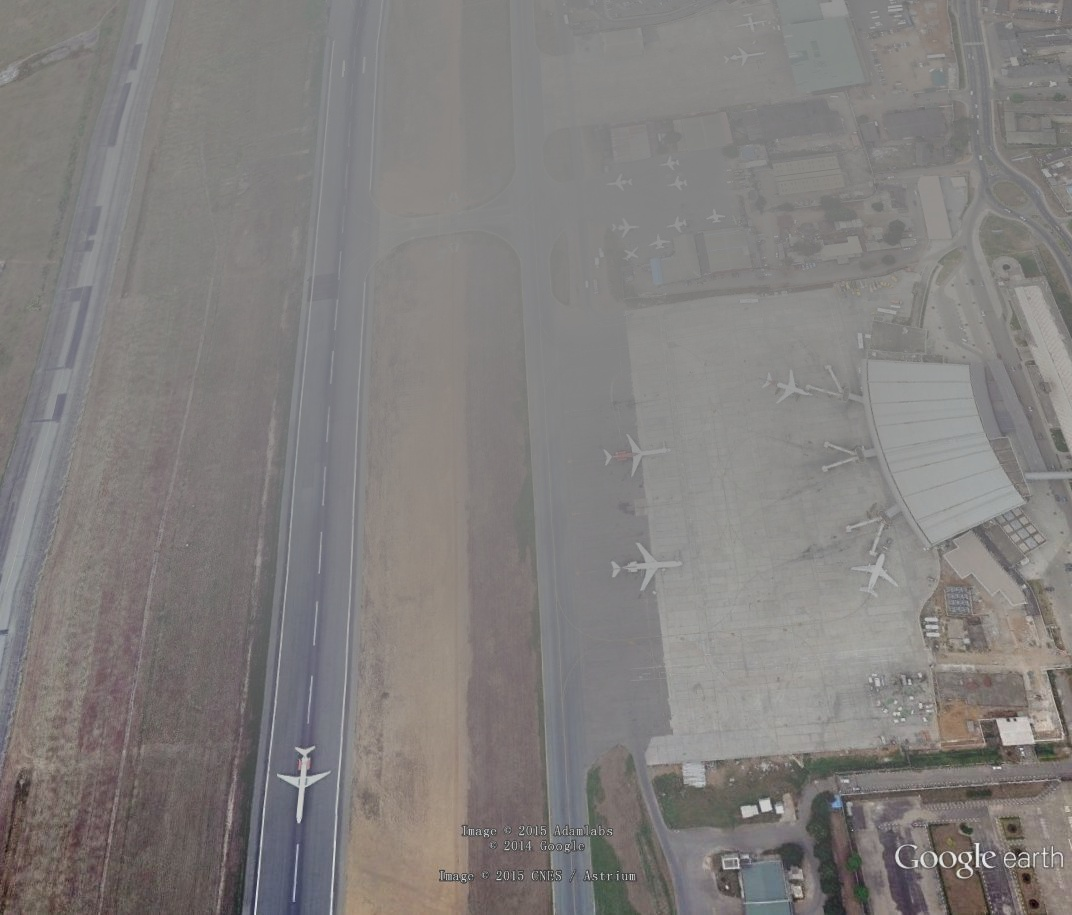aircraft: (275, 742, 336, 827), (607, 541, 688, 596), (600, 432, 674, 478), (848, 549, 903, 601), (759, 368, 815, 407), (721, 45, 771, 70), (732, 12, 772, 35), (607, 216, 642, 239), (663, 214, 693, 237), (646, 230, 674, 253), (604, 173, 634, 193), (657, 153, 685, 174), (703, 208, 731, 228), (664, 176, 693, 194), (622, 246, 642, 264)
